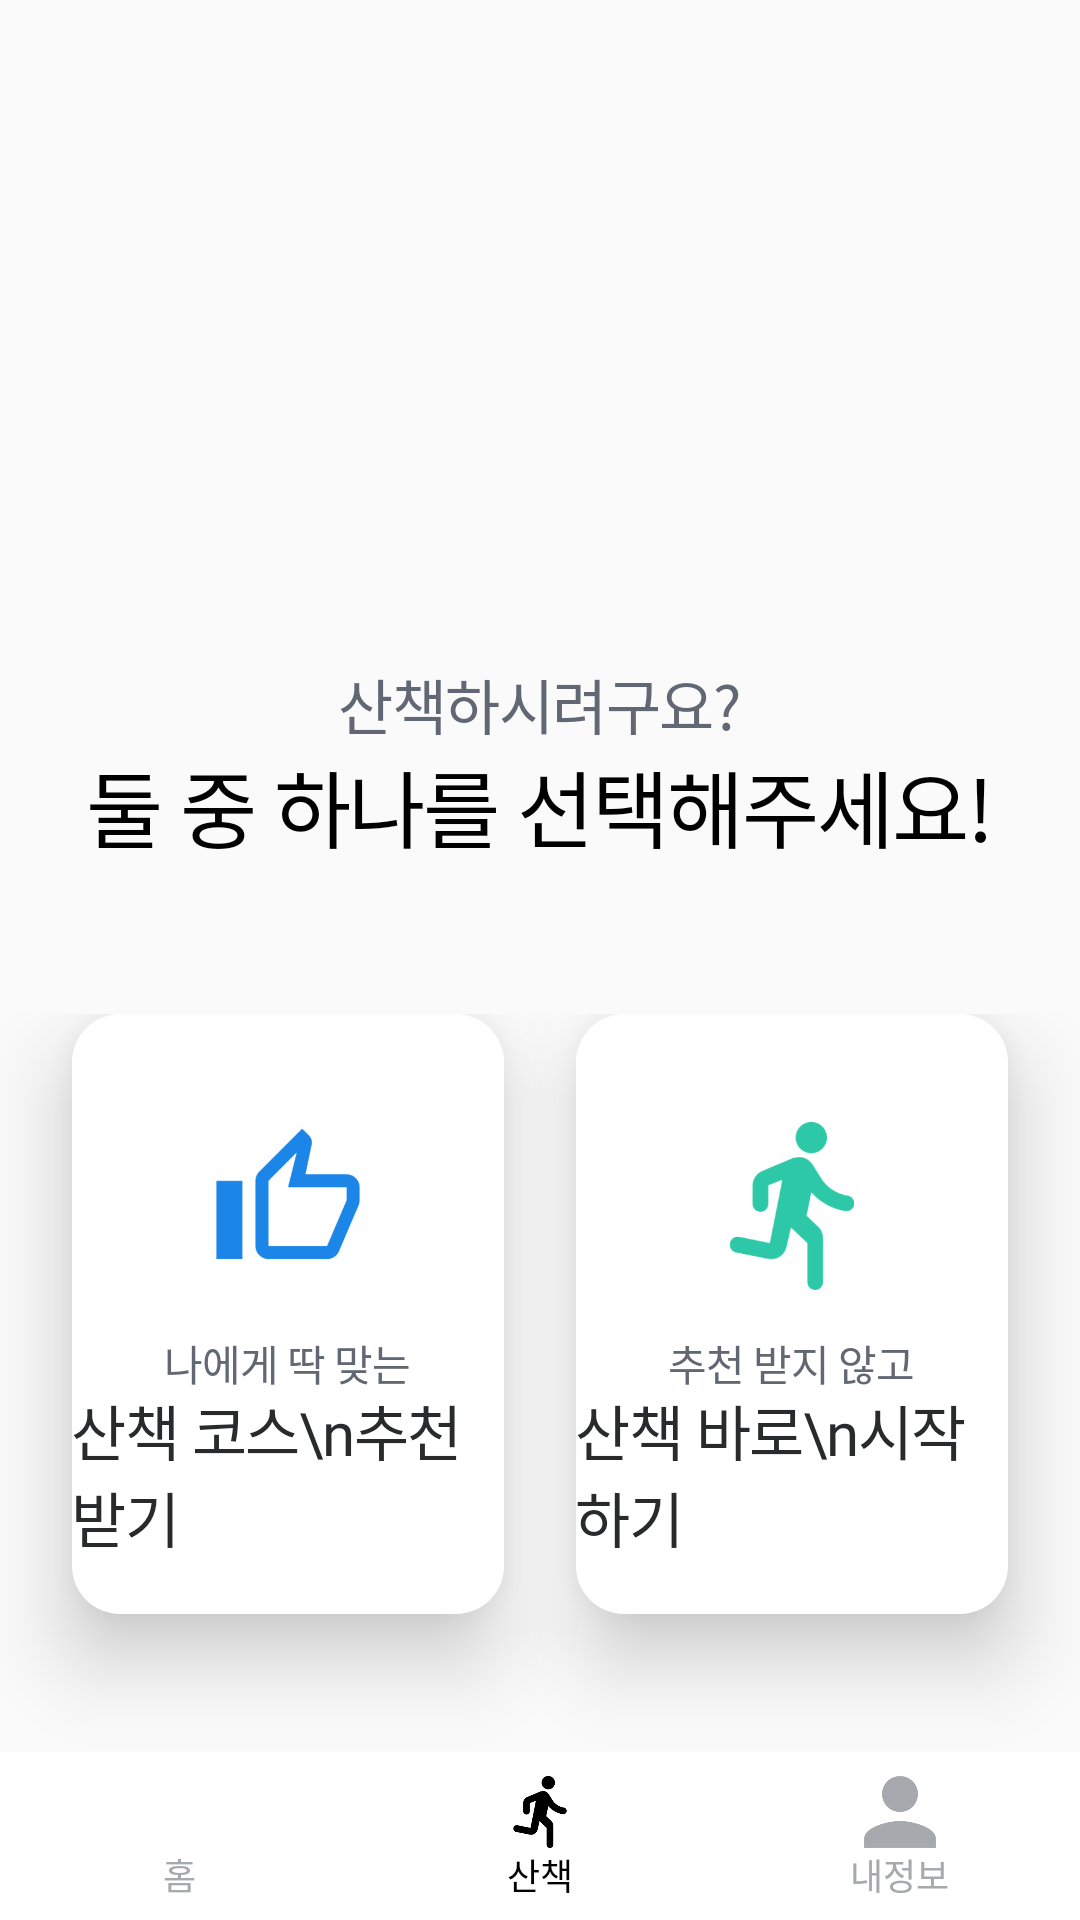

Icon bounding boxes for this 1080 x 1920 phone screenshot, format Rect(x1, y1, x2, y2):
directions run: Rect(730, 1122, 854, 1290), Rect(513, 1776, 567, 1848)
person: Rect(864, 1776, 936, 1848)
thumb up: Rect(216, 1129, 360, 1259)
